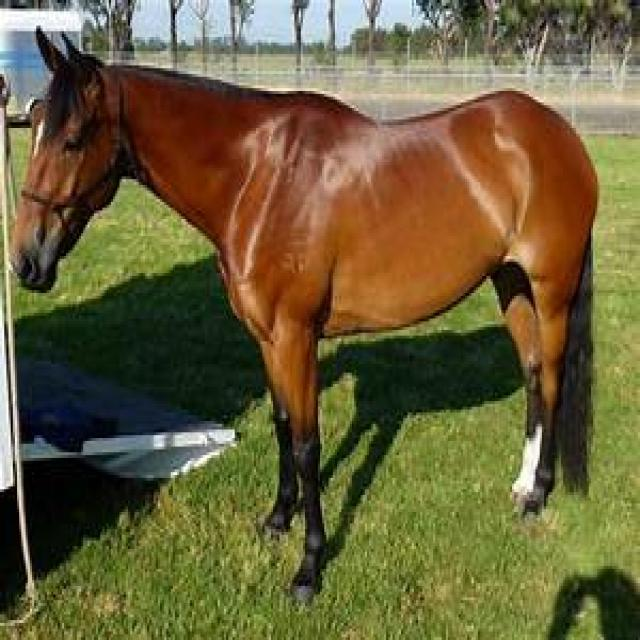horse: (12, 32, 598, 596)
